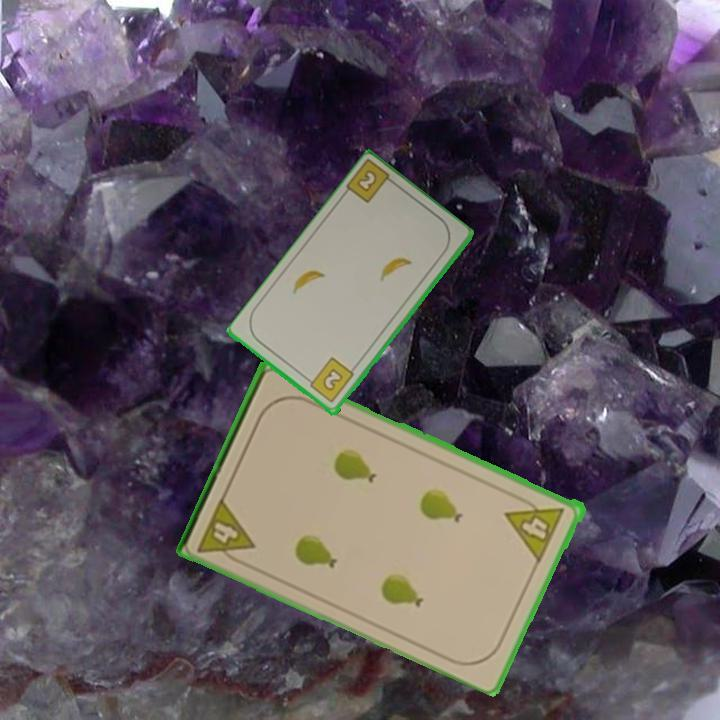2b: (303, 354, 357, 406), (343, 158, 400, 207)
4p: (194, 493, 259, 570), (503, 490, 568, 563)
